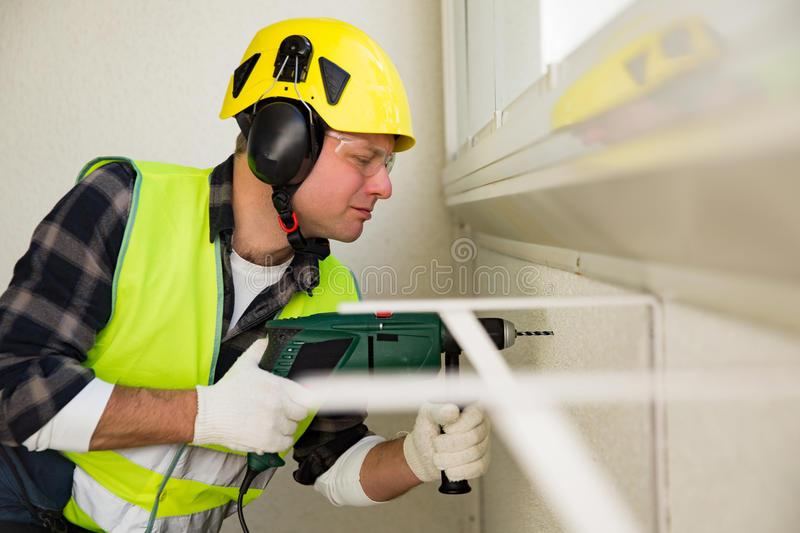helmet: (219, 17, 419, 155)
